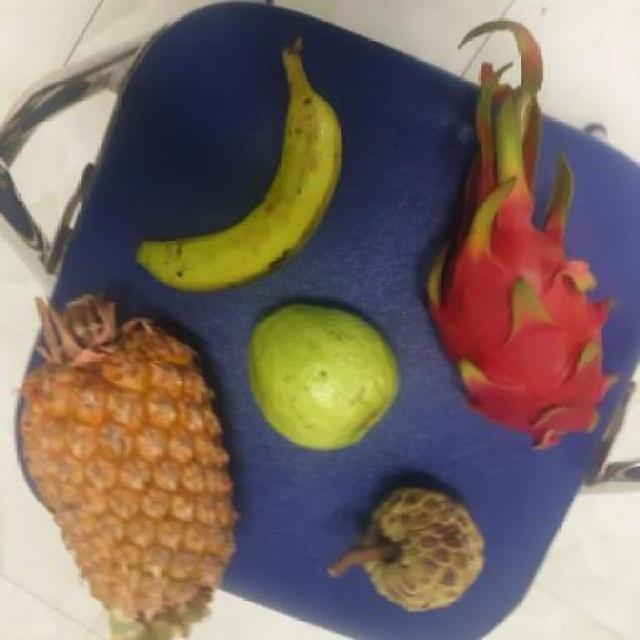banana: (138, 89, 352, 286)
dragon fruit: (424, 181, 618, 444)
guava: (249, 309, 406, 449)
sugar apple: (354, 483, 494, 609)
